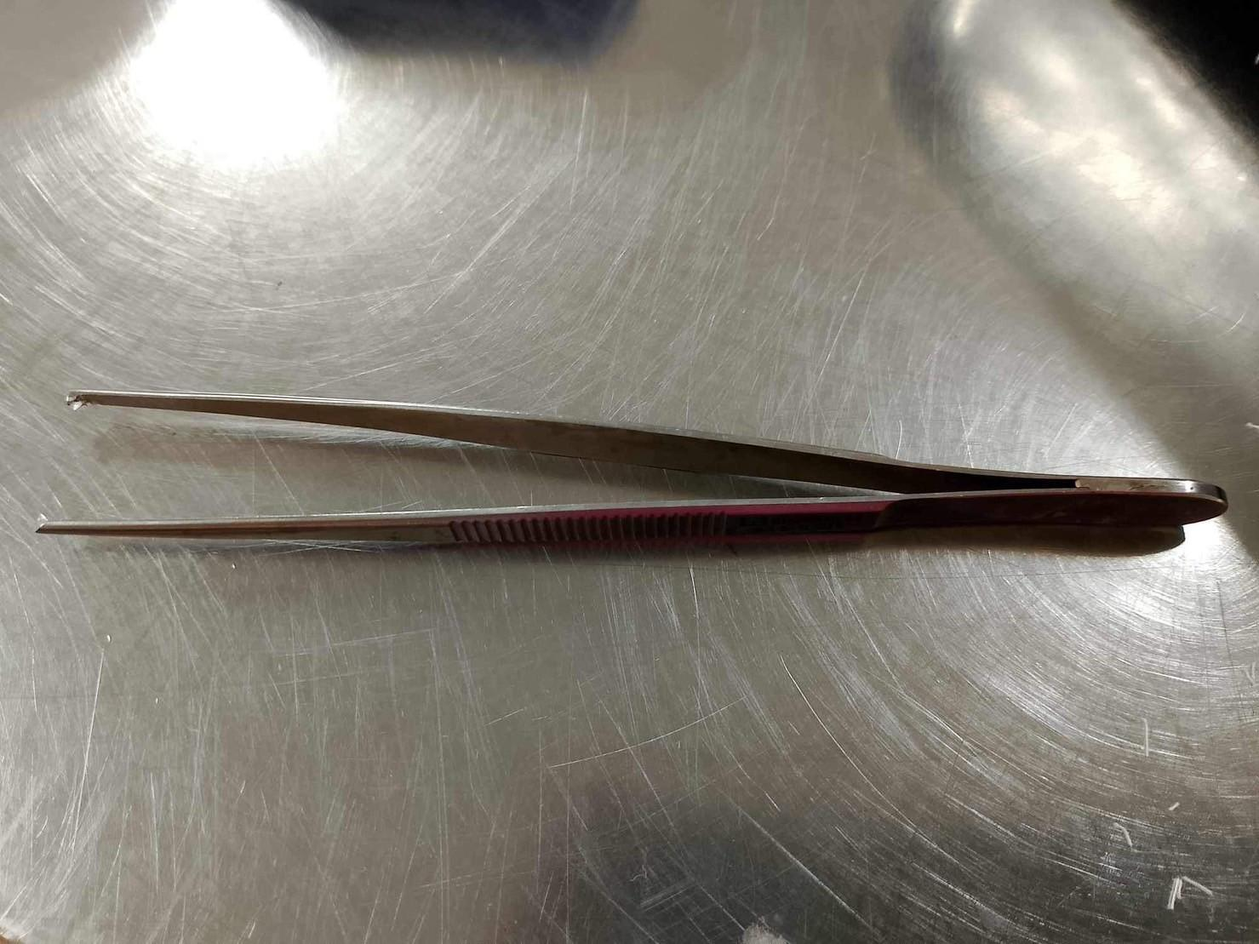General: (5, 3, 1253, 939)
Sharps: (63, 386, 1228, 523)
